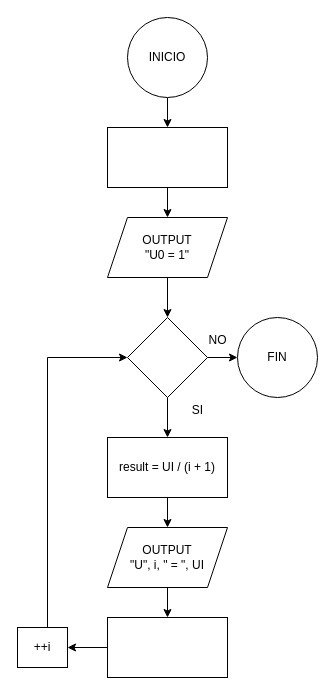
Image size: 335x695. Some labels were removed from this diagram. The centre of each missing label's shape, as x and y in pixels:
"10 >= i" belongs at pixel 167 357.
"UI = 1 result i =1" belongs at pixel 167 157.
"UI = result" belongs at pixel 167 647.
